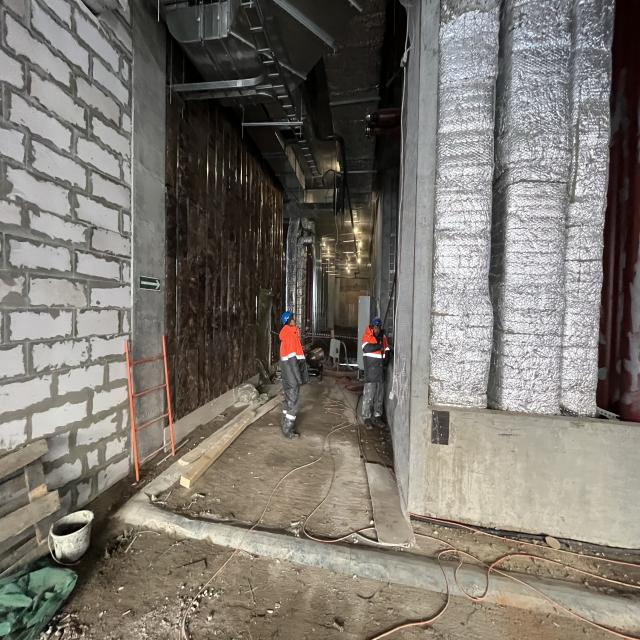Helmet: (283, 313, 296, 326), (373, 320, 382, 331)
Jacket: (281, 328, 302, 364), (364, 335, 387, 361)
